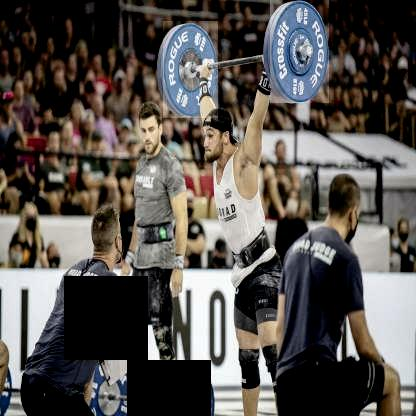barbell: (270, 1, 329, 104), (164, 22, 218, 118)
